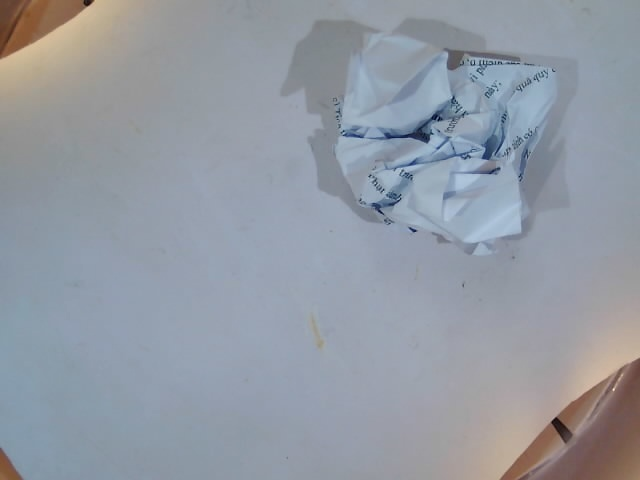paper: (281, 22, 578, 276)
